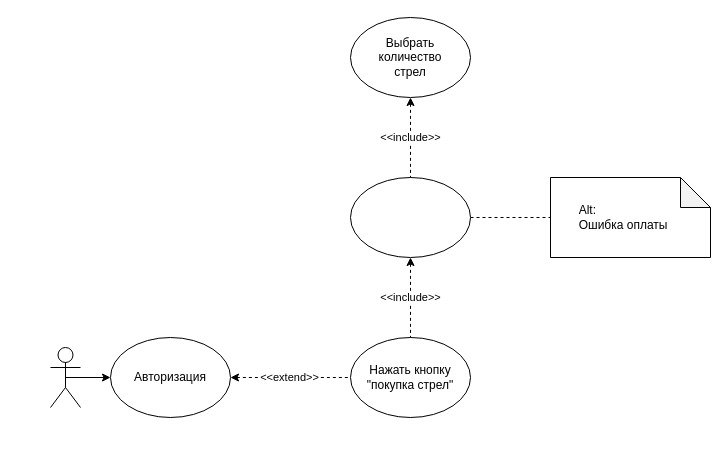
Some shapes in this 728 by 461 pixel diagram are drawn without their labels. The box of each missing label's shape, as (x1, y1, x2, y2) in pixels:
Авторизованный пользователь: (50, 346, 80, 408)
Оплатить: (350, 176, 470, 258)
